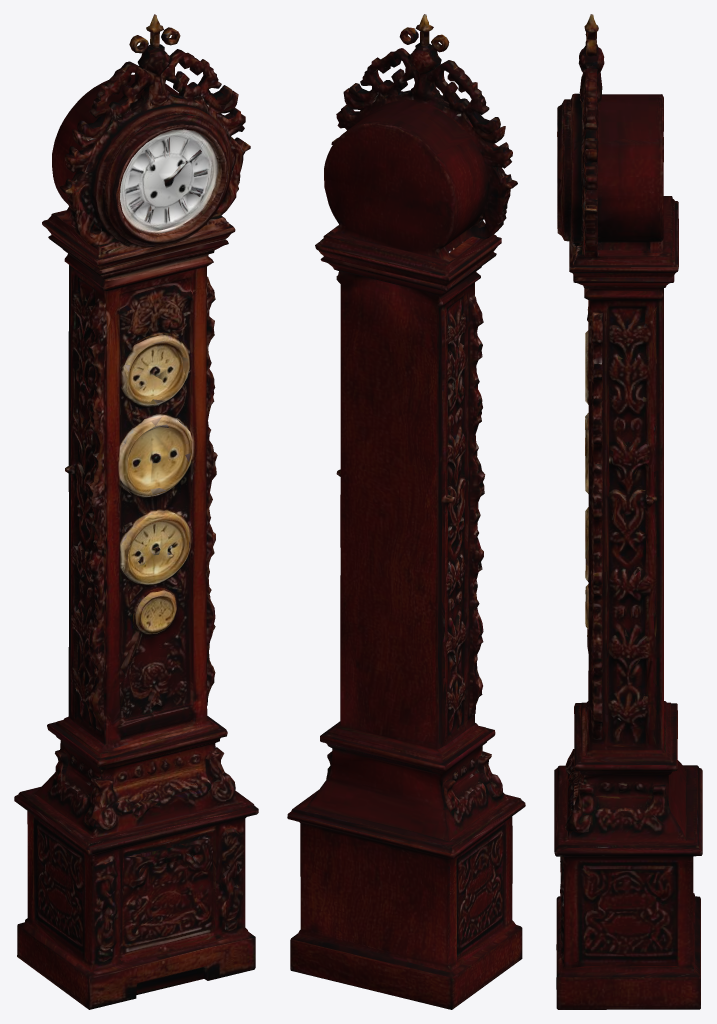
Rendered from calendar_clock.glb.
The picture shows the model from 3 angles, left to right: view 1: azimuth 30°, elevation 25°; view 2: azimuth 150°, elevation 25°; view 3: azimuth 270°, elevation 25°; orthographic projection. The views are drawn at different scales.
Visible parts, largest first — view 1: mesh; view 2: mesh; view 3: mesh.
Part boxes in pixels (left/top/right/bottom): mesh: left=14, top=14, right=258, bottom=1009; mesh: left=287, top=14, right=525, bottom=1009; mesh: left=554, top=14, right=702, bottom=1009.
Bounding box in the file's own units: 0.2016 × 1 × 0.1405.
Materials: 1 (1 with a texture image).
